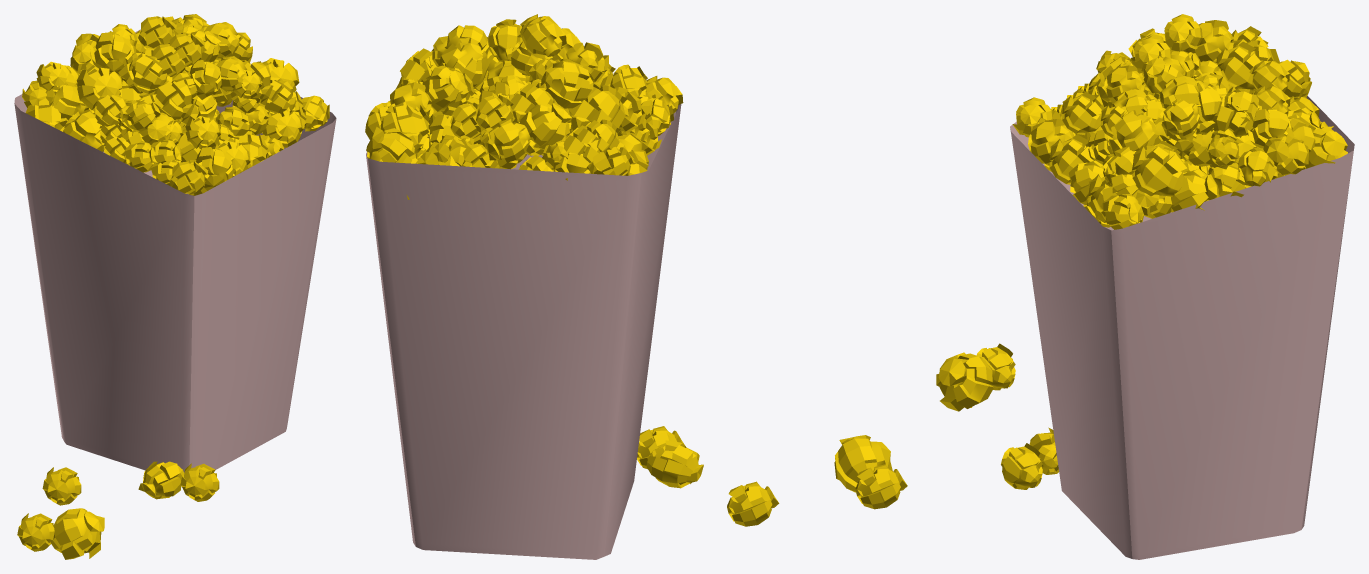
File: 爆米花.fbx
3 renders of one model, left to right at view 1: azimuth 30°, elevation 25°; view 2: azimuth 150°, elevation 25°; view 3: azimuth 270°, elevation 25°, orthographic. The views are drawn at different scales.
Parts seen in each view (by area): view 1: pCube1, pSphere115, pSphere83, pSphere118, pSphere71, pSphere79, pSphere116, pSphere117, pSphere119, pSphere94, pSphere65, pSphere73 (+33 smaller); view 2: pCube1, pSphere115, pSphere118, pSphere71, pSphere119, pSphere83, pSphere116, pSphere27, pSphere16, pSphere113, pSphere87, pSphere28 (+19 smaller); view 3: pCube1, pSphere115, pSphere64, pSphere117, pSphere85, pSphere74, pSphere78, pSphere23, pSphere77, pSphere96, pSphere97, pSphere65 (+29 smaller).
Boxes of the visible parts, x1,y1,x2,y2 form: pCube1: (14, 29, 336, 472); pSphere115: (51, 508, 104, 559); pSphere83: (76, 66, 122, 110); pSphere118: (138, 461, 184, 499); pSphere71: (90, 32, 132, 73); pSphere79: (154, 81, 194, 123); pSphere116: (42, 467, 81, 505); pSphere117: (180, 463, 219, 501); pSphere119: (17, 513, 54, 551); pSphere94: (128, 55, 167, 93); pSphere65: (196, 147, 232, 190); pSphere73: (262, 111, 303, 147); pCube1: (366, 104, 681, 559); pSphere115: (834, 435, 892, 492); pSphere118: (646, 440, 703, 488); pSphere71: (541, 59, 593, 108); pSphere119: (855, 464, 907, 509); pSphere83: (568, 85, 627, 131); pSphere116: (727, 481, 779, 526); pSphere27: (520, 102, 571, 149); pSphere16: (485, 118, 530, 162); pSphere113: (522, 16, 566, 59); pSphere87: (380, 103, 430, 153); pSphere28: (366, 127, 414, 163); pCube1: (1010, 96, 1354, 559); pSphere115: (936, 352, 993, 411); pSphere64: (1131, 140, 1186, 198); pSphere117: (1001, 443, 1042, 489); pSphere85: (1216, 41, 1261, 90); pSphere74: (1108, 110, 1156, 155); pSphere78: (1049, 134, 1093, 184); pSphere23: (1171, 169, 1219, 212); pSphere77: (1062, 91, 1101, 135); pSphere96: (1266, 135, 1308, 175); pSphere97: (1247, 108, 1292, 152); pSphere65: (1028, 119, 1074, 164).
Size of the model in its own units: 10.05 by 11.06 by 8.62.
